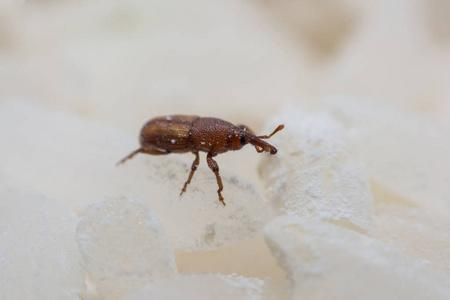Curculionidae: (114, 114, 284, 207)
